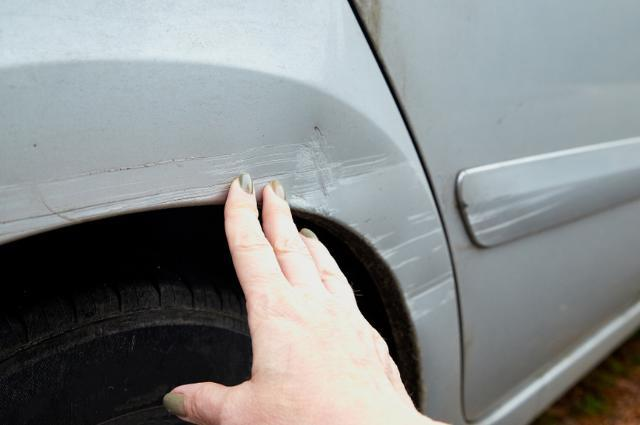Fender: (0, 88, 458, 376)
